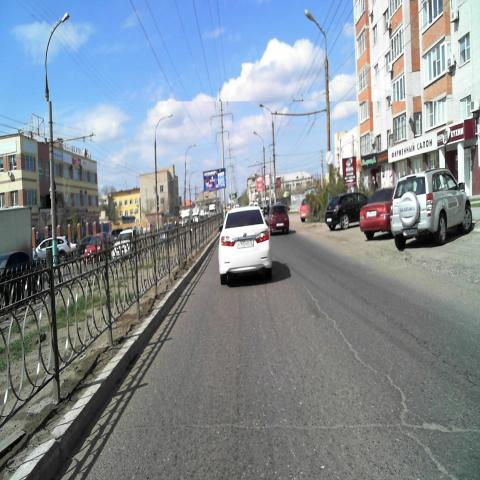3_31: (325, 149, 333, 167)
